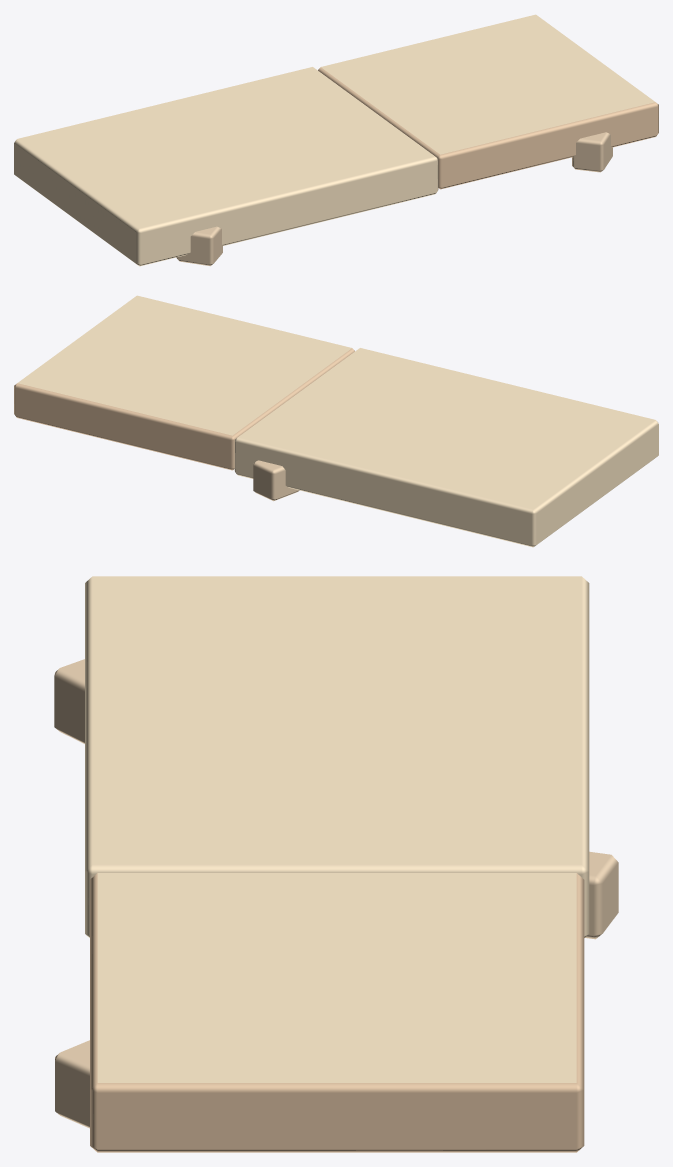
Rendered from mover_crumble_slab.glb.
3 renders of one model, top to bottom at view 1: azimuth 30°, elevation 25°; view 2: azimuth 150°, elevation 25°; view 3: azimuth 270°, elevation 25°, orthographic. The views are drawn at different scales.
Visible parts, largest first — view 1: mover_crumble_slab; view 2: mover_crumble_slab; view 3: mover_crumble_slab.
Boxes of the visible parts, box(x1,y1,x2,y2) form: mover_crumble_slab: box(14, 14, 658, 266); mover_crumble_slab: box(14, 295, 658, 547); mover_crumble_slab: box(54, 576, 618, 1152).
Size of the model in its own units: 7.2 by 0.64 by 3.36.
